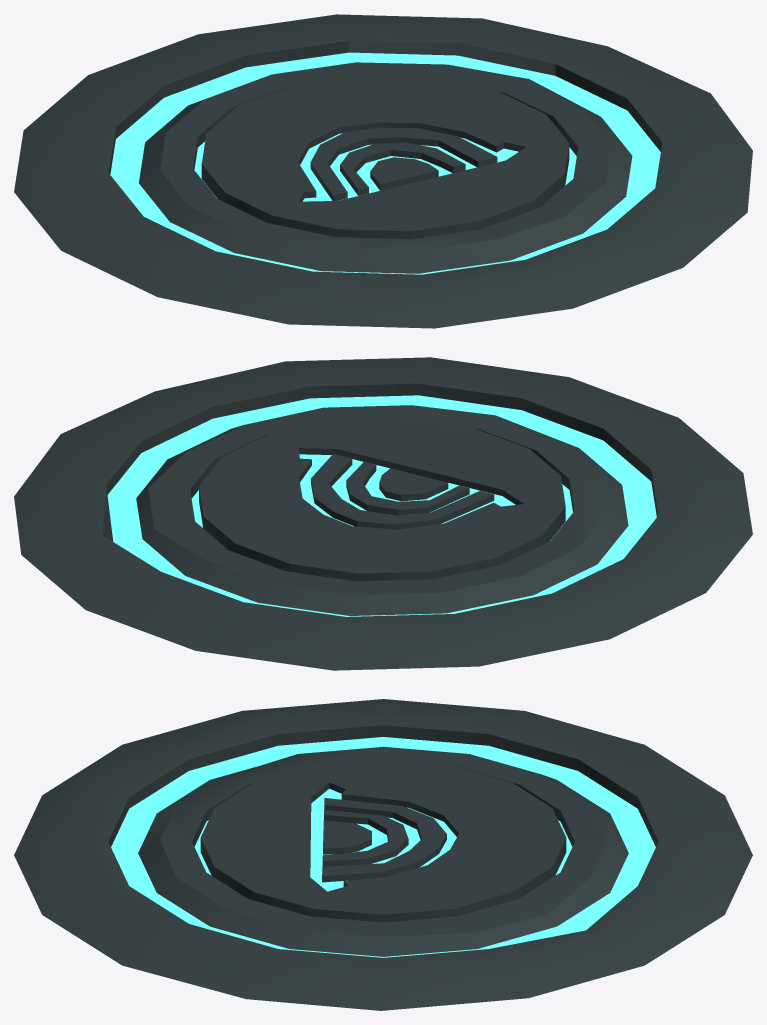
The model's file is laatta.fbx.
The picture shows the model from 3 angles, top to bottom: view 1: azimuth 30°, elevation 25°; view 2: azimuth 150°, elevation 25°; view 3: azimuth 270°, elevation 25°; orthographic projection.
Parts seen in each view (by area): view 1: Circle; view 2: Circle; view 3: Circle.
Boxes of the visible parts, left/top/right/bottom form: Circle: left=14, top=14, right=752, bottom=328; Circle: left=14, top=357, right=752, bottom=670; Circle: left=14, top=699, right=752, bottom=1010.
Bounding box in the file's own units: 480 × 13.37 × 481.
